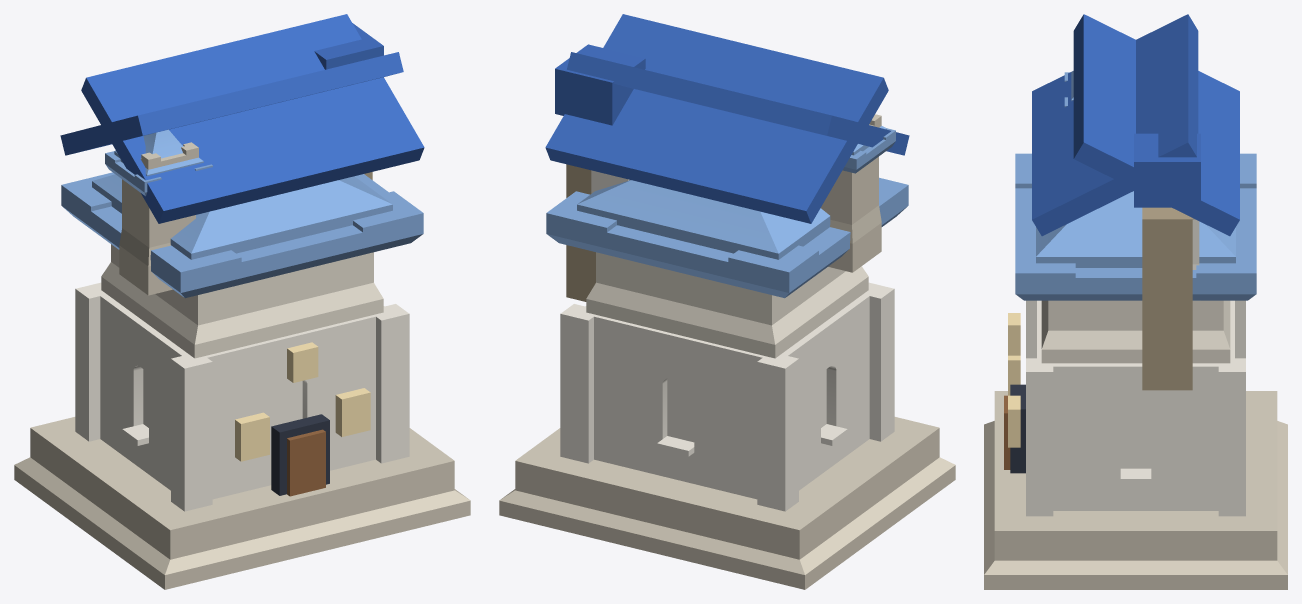
Rendered from european-keep.glb.
3 views of the same model, side by side, from view 1: azimuth 30°, elevation 25°; view 2: azimuth 150°, elevation 25°; view 3: azimuth 270°, elevation 25° (orthographic).
Visible parts, largest first — view 1: body, glow; view 2: body; view 3: body, glow.
Boxes of the visible parts, <box> form: body: <box>14,14,470,589</box>; glow: <box>235,342,370,461</box>; body: <box>499,14,955,589</box>; body: <box>984,14,1287,589</box>; glow: <box>1008,313,1020,447</box>.
Size of the model in its own units: 1.7 by 2.3 by 1.45.
